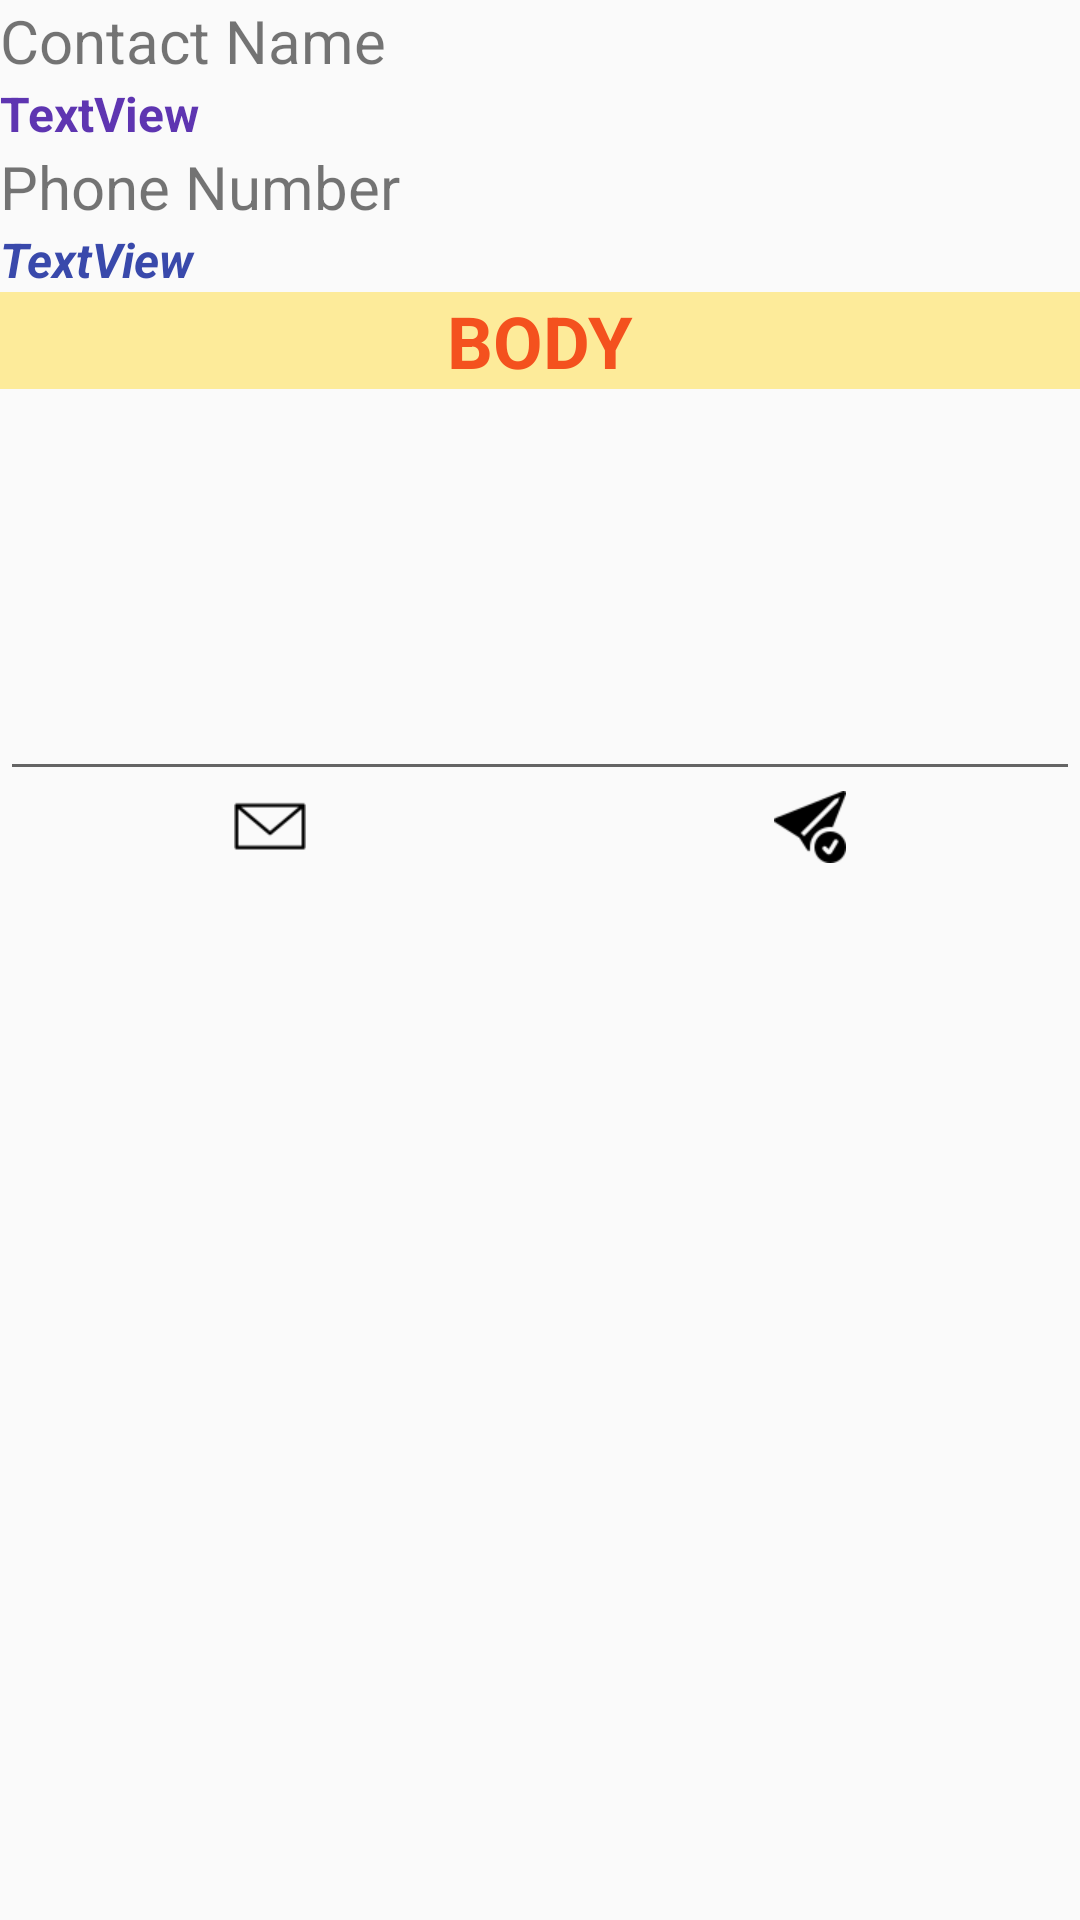

Locate icon controls on the screen. Image size 1080w x 1920h, boxes as [x1=x1, y1=y1, x2=x2, y2=y2].
sendsms: [x1=774, y1=791, x2=846, y2=863], [x1=234, y1=803, x2=306, y2=850]
